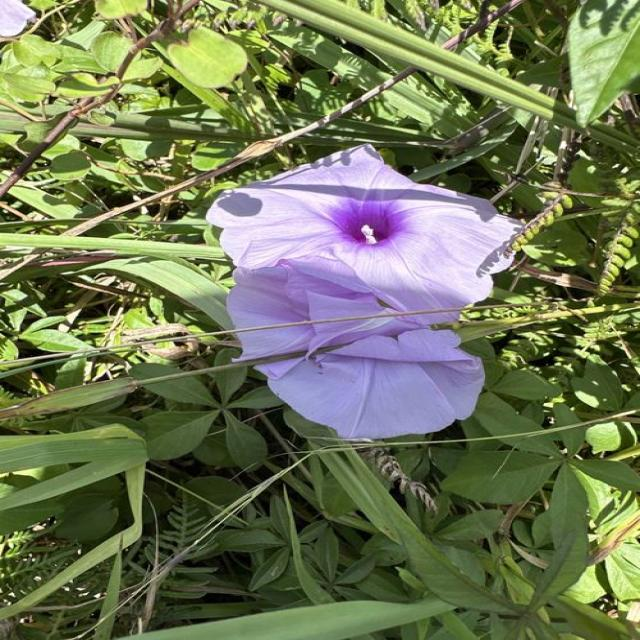ipomoea: (201, 141, 529, 442)
